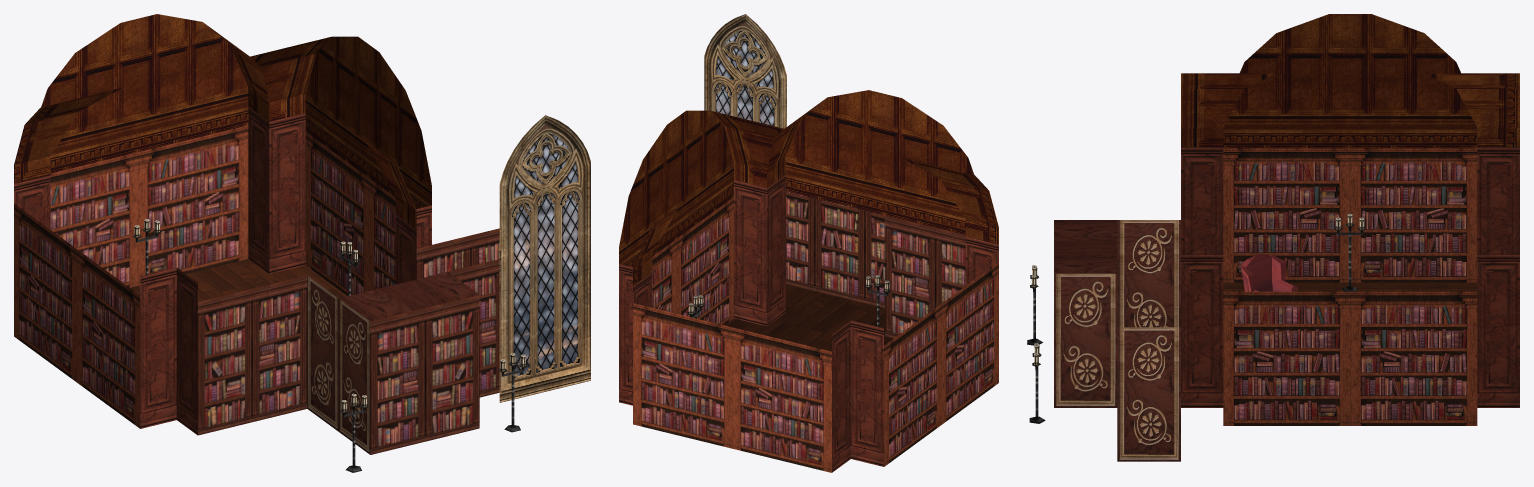
The model's file is salon.fbx.
3 views of the same model, side by side, from view 1: azimuth 30°, elevation 25°; view 2: azimuth 150°, elevation 25°; view 3: azimuth 270°, elevation 25° (orthographic). The views are drawn at different scales.
Parts seen in each view (by area): view 1: Group52, Group44, Group2_1, Group50, Group61, Group57, Group53, Group1_1, Group3_1, Group38, Group0_1, Group12; view 2: Group52, Group44, Group50, Group2_1, Group57, Group0_1, Group38, Group12; view 3: Group52, Group44, Group50, Group53, Group1_1, Group3_1, Group38, Group7, Group12.
Boxes of the visible parts, left/top/right/bottom form: Group52: left=14, top=125, right=395, bottom=428; Group44: left=14, top=14, right=431, bottom=228; Group2_1: left=198, top=259, right=499, bottom=454; Group50: left=14, top=106, right=431, bottom=435; Group61: left=499, top=228, right=590, bottom=402; Group57: left=499, top=115, right=590, bottom=250; Group53: left=307, top=275, right=370, bottom=453; Group1_1: left=339, top=299, right=370, bottom=454; Group3_1: left=339, top=272, right=479, bottom=321; Group38: left=130, top=259, right=347, bottom=301; Group0_1: left=416, top=228, right=499, bottom=279; Group12: left=132, top=219, right=527, bottom=472; Group52: left=633, top=197, right=998, bottom=472; Group44: left=619, top=90, right=998, bottom=285; Group50: left=619, top=174, right=998, bottom=472; Group2_1: left=786, top=191, right=965, bottom=338; Group57: left=704, top=14, right=786, bottom=128; Group0_1: left=814, top=198, right=885, bottom=308; Group38: left=724, top=284, right=893, bottom=351; Group12: left=687, top=275, right=890, bottom=344; Group52: left=1223, top=148, right=1477, bottom=425; Group44: left=1181, top=14, right=1519, bottom=148; Group50: left=1181, top=147, right=1519, bottom=407; Group53: left=1054, top=220, right=1180, bottom=461; Group1_1: left=1054, top=273, right=1117, bottom=407; Group3_1: left=1054, top=220, right=1117, bottom=273; Group38: left=1223, top=282, right=1477, bottom=291; Group7: left=1241, top=254, right=1297, bottom=291; Group12: left=1027, top=213, right=1366, bottom=423.
Bounding box in the file's own units: 5819 × 3981 × 6369.
15 materials, 15 textured.
